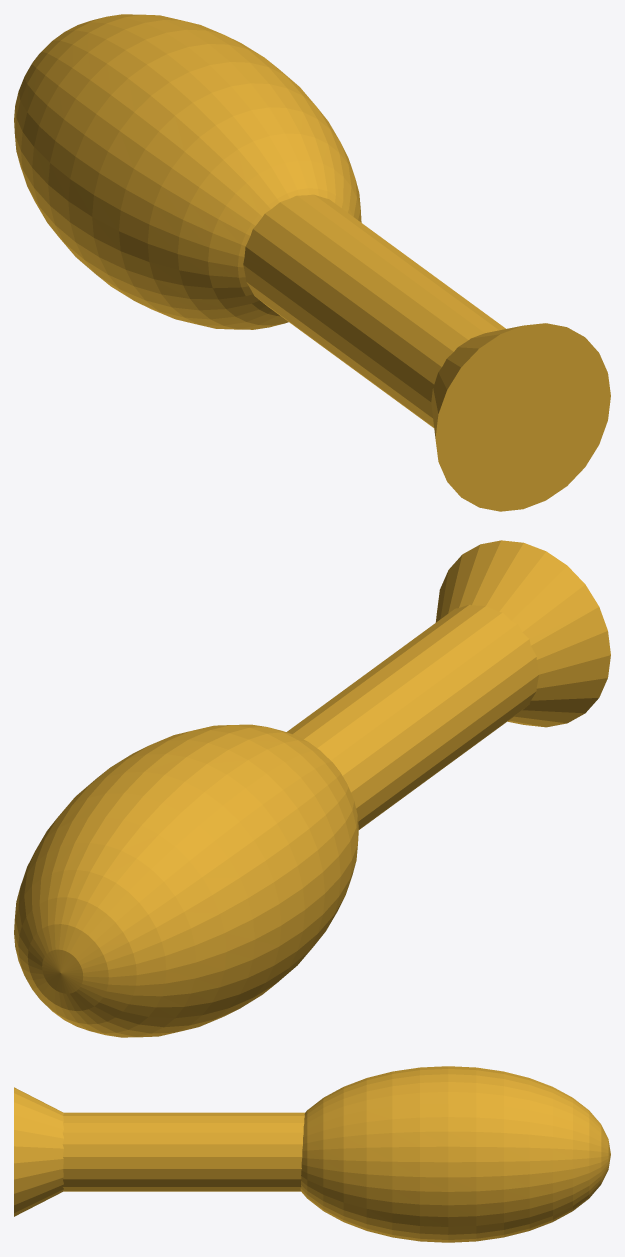
The model's file is tinker.obj.
3 renders of one model, top to bottom at view 1: azimuth 30°, elevation 25°; view 2: azimuth 150°, elevation 25°; view 3: azimuth 270°, elevation 25°, orthographic. The views are drawn at different scales.
Visible parts, largest first — view 1: obj_0; view 2: obj_0; view 3: obj_0.
Boxes of the visible parts, x1=… form: obj_0: x1=14, y1=14, x2=610, y2=511; obj_0: x1=14, y1=540, x2=610, y2=1037; obj_0: x1=14, y1=1066, x2=610, y2=1242.
Bounding box in the file's own units: 4.9 × 4.9 × 16.5.
